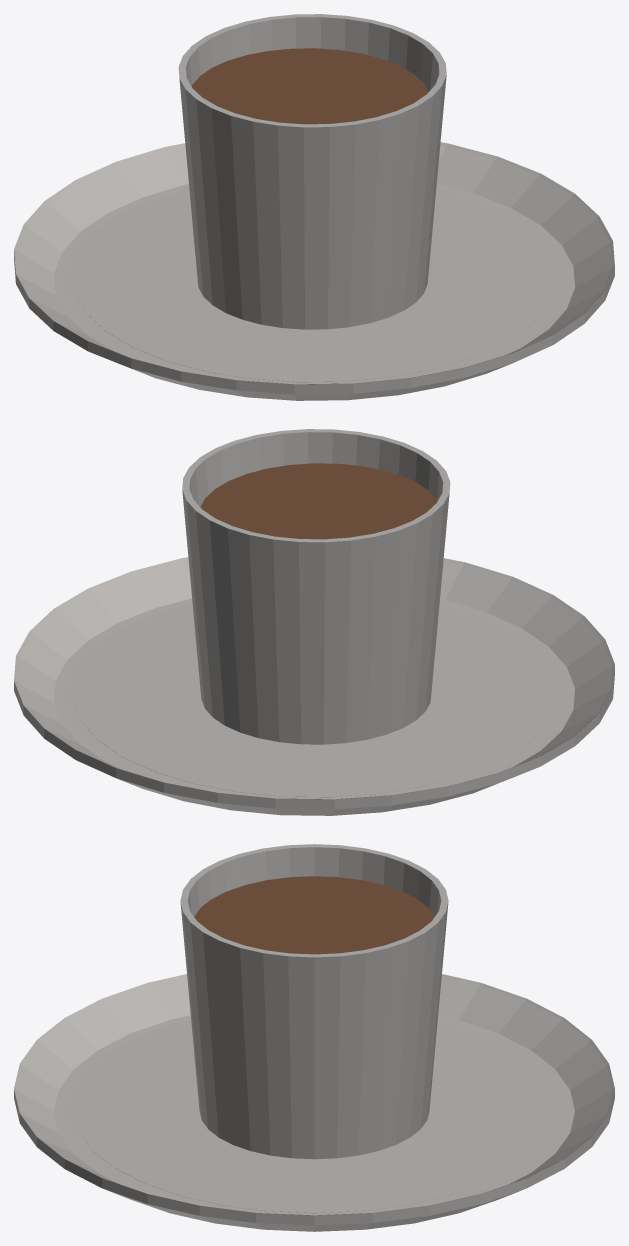
The model's file is objek2.fbx.
3 renders of one model, top to bottom at view 1: azimuth 30°, elevation 25°; view 2: azimuth 150°, elevation 25°; view 3: azimuth 270°, elevation 25°, orthographic.
Parts seen in each view (by area): view 1: Cylinder; view 2: Cylinder; view 3: Cylinder.
Part boxes in pixels (x1=…): Cylinder: x1=14, y1=14, x2=614, y2=400; Cylinder: x1=14, y1=429, x2=614, y2=815; Cylinder: x1=14, y1=844, x2=614, y2=1231.
Bounding box in the file's own units: 116 × 47.01 × 116.
